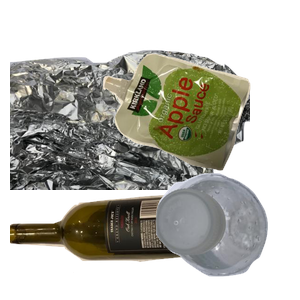glass: (10, 189, 250, 300)
metal: (10, 47, 250, 227)
plastic: (153, 170, 300, 300)
trash: (100, 51, 300, 214)
